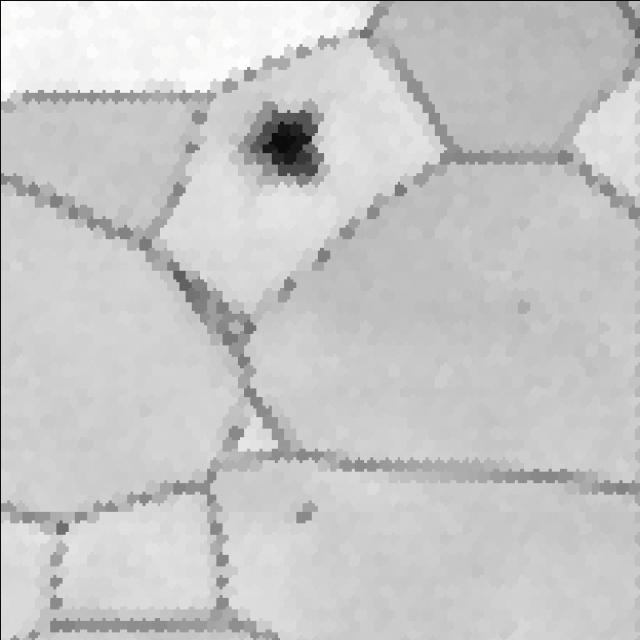good_void: (234, 100, 329, 186), (289, 501, 323, 528)
